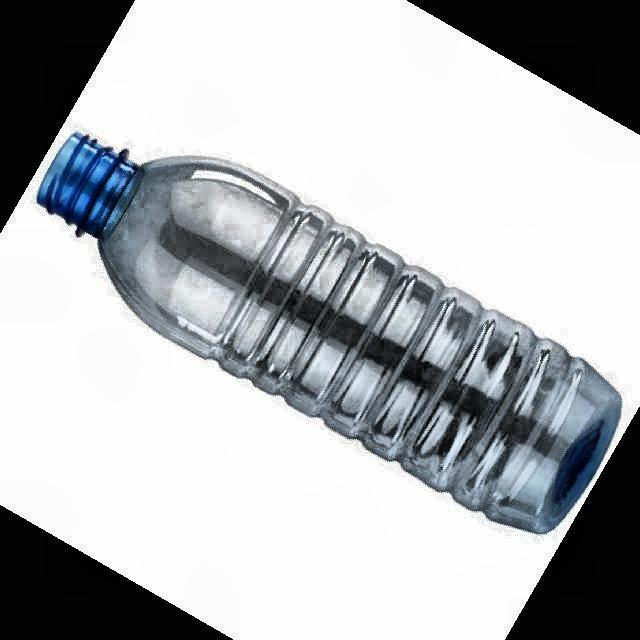plastic: (38, 132, 620, 532)
